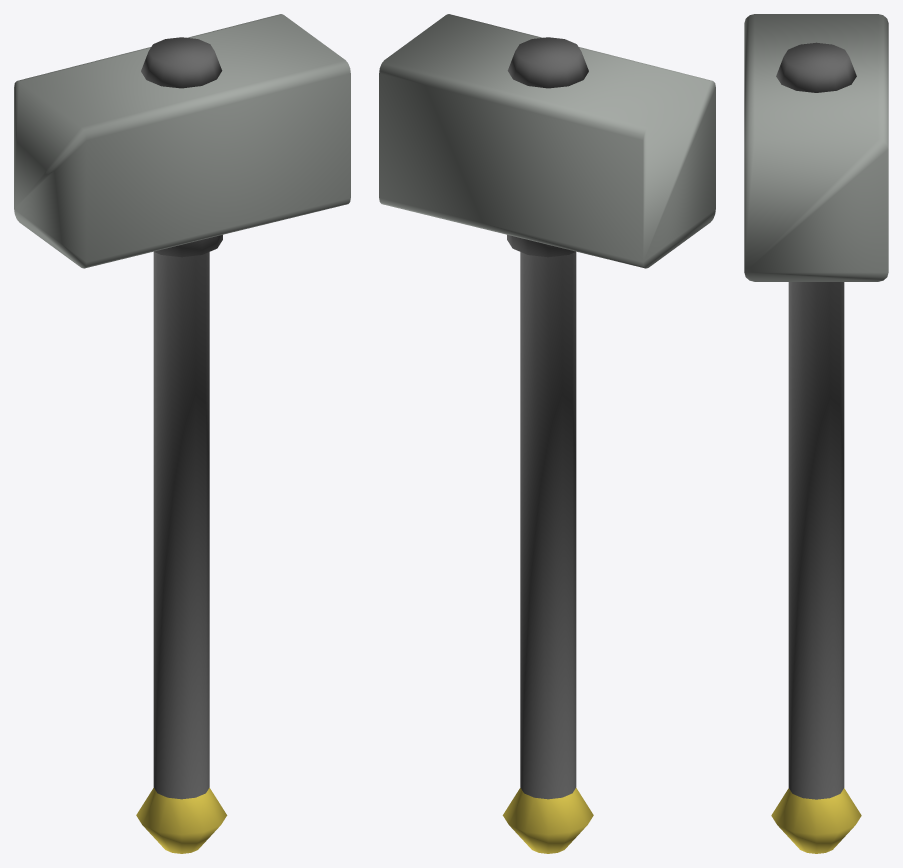
File: Hammer.fbx
3 renders of one model, left to right at view 1: azimuth 30°, elevation 25°; view 2: azimuth 150°, elevation 25°; view 3: azimuth 270°, elevation 25°, orthographic.
Parts seen in each view (by area): view 1: Circle.003; view 2: Circle.003; view 3: Circle.003.
Boxes of the visible parts, x1=… form: Circle.003: x1=14, y1=14, x2=350, y2=853; Circle.003: x1=379, y1=14, x2=715, y2=853; Circle.003: x1=744, y1=14, x2=888, y2=853.
Bounding box in the file's own units: 19.3 × 55.5 × 9.2.
Materials: 1 (1 with a texture image).
